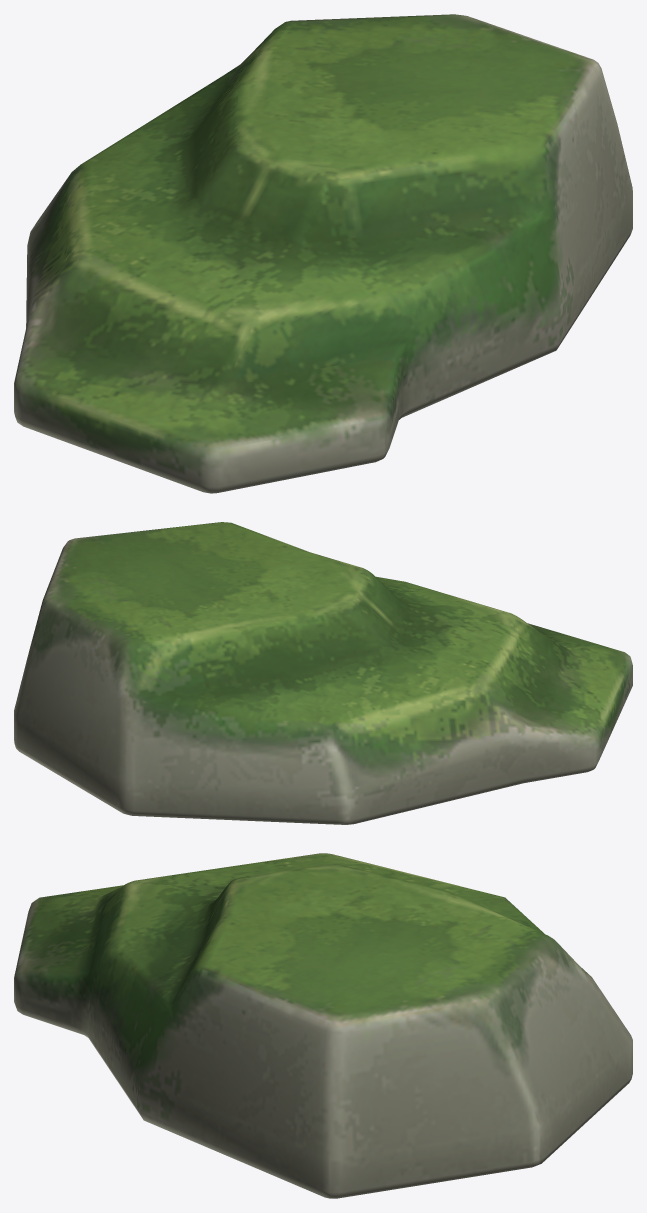
Rendered from NormalRock7.fbx.
The picture shows the model from 3 angles, top to bottom: view 1: azimuth 30°, elevation 25°; view 2: azimuth 150°, elevation 25°; view 3: azimuth 270°, elevation 25°; orthographic projection. The views are drawn at different scales.
Parts seen in each view (by area): view 1: NormalRock7; view 2: NormalRock7; view 3: NormalRock7.
Part boxes in pixels (left/top/right/bottom): NormalRock7: left=14, top=14, right=632, bottom=493; NormalRock7: left=14, top=522, right=632, bottom=824; NormalRock7: left=14, top=853, right=632, bottom=1198.
Size of the model in its own units: 1.68 by 0.4443 by 1.49.
